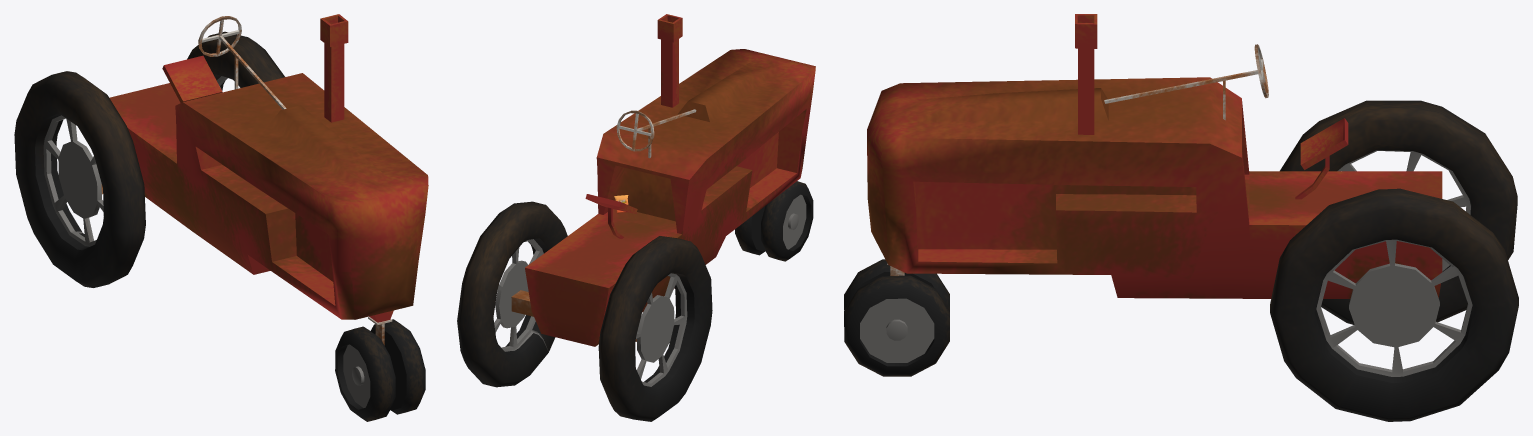
Rendered from PROPtractor.fbx.
3 views of the same model, side by side, from view 1: azimuth 30°, elevation 25°; view 2: azimuth 150°, elevation 25°; view 3: azimuth 270°, elevation 25° (orthographic). The views are drawn at different scales.
Visible parts, largest first — view 1: tractorBody, tractorWheelBack, tractorWheelFront, tractorWheelFront1, tractorWheelBack1; view 2: tractorBody, tractorWheelBack, tractorWheelBack1, tractorWheelFront, tractorWheelFront1; view 3: tractorBody, tractorWheelBack1, tractorWheelBack, tractorWheelFront1, tractorWheelFront.
Boxes of the visible parts, x1,y1,x2,y2 form: tractorBody: (101, 14, 428, 345); tractorWheelBack: (14, 71, 145, 287); tractorWheelFront: (335, 326, 395, 421); tractorWheelFront1: (370, 319, 425, 414); tractorWheelBack1: (187, 31, 284, 90); tractorBody: (511, 14, 815, 346); tractorWheelBack: (598, 236, 712, 421); tractorWheelBack1: (457, 201, 567, 387); tractorWheelFront: (761, 181, 813, 261); tractorWheelFront1: (735, 206, 765, 255); tractorBody: (867, 14, 1442, 298); tractorWheelBack1: (1270, 188, 1518, 421); tractorWheelBack: (1280, 100, 1517, 324); tractorWheelFront1: (844, 275, 949, 376); tractorWheelFront: (844, 259, 949, 310).
Bounding box in the file's own units: 3.69 × 5.97 × 9.76.
